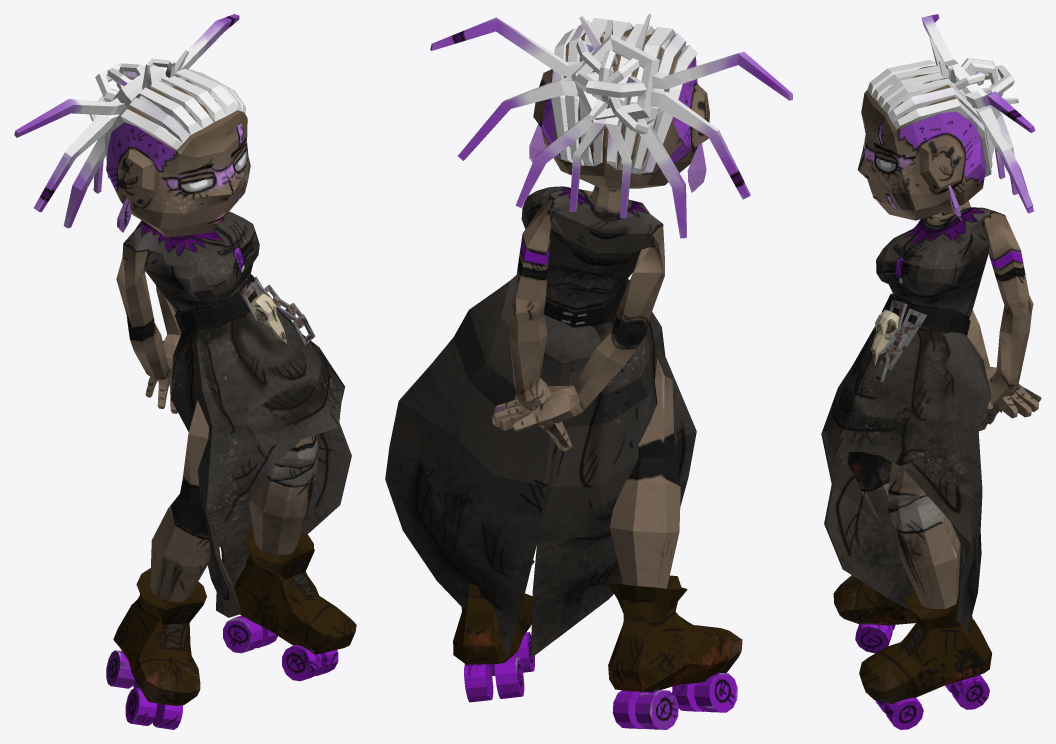
File: bruja_000026.obj
3 views of the same model, side by side, from view 1: azimuth 30°, elevation 25°; view 2: azimuth 150°, elevation 25°; view 3: azimuth 270°, elevation 25° (orthographic). The views are drawn at different scales.
Visible parts, largest first — view 1: Bruja_Plane.001; view 2: Bruja_Plane.001; view 3: Bruja_Plane.001.
Boxes of the visible parts, bbox=[...] form: Bruja_Plane.001: bbox=[14, 14, 356, 729]; Bruja_Plane.001: bbox=[385, 14, 792, 729]; Bruja_Plane.001: bbox=[821, 14, 1041, 729].
Size of the model in its own units: 9.11 by 15.98 by 5.16.
